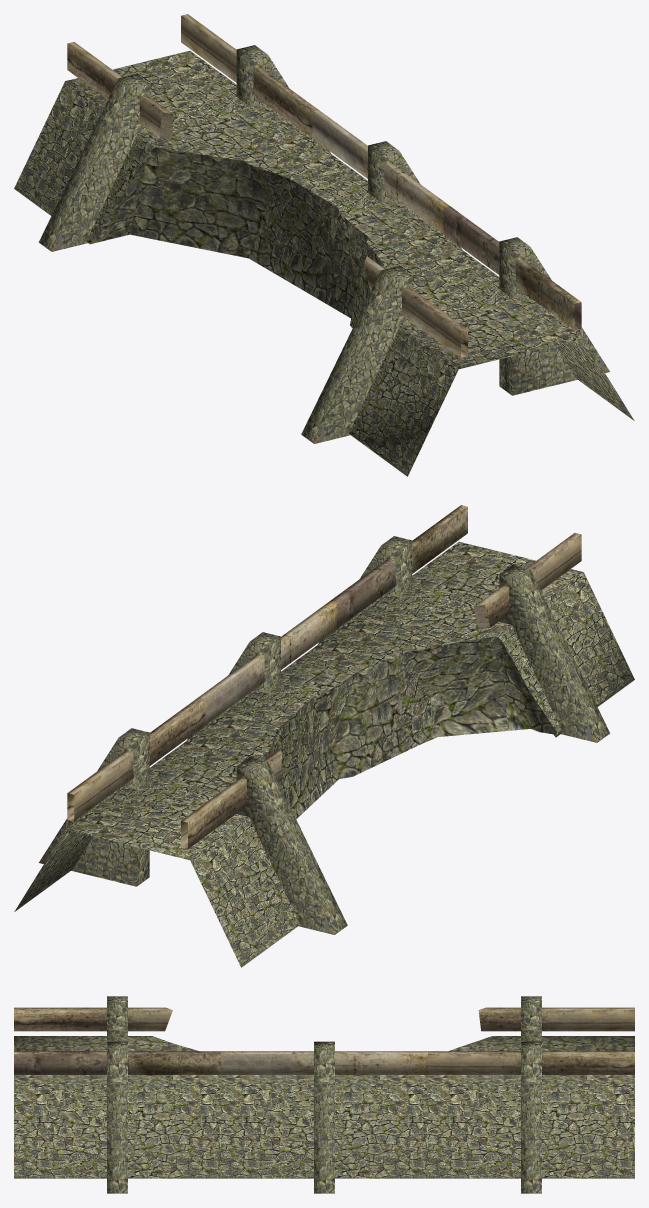
File: I-Tile_HalfBroken.fbx
3 views of the same model, one above another, from view 1: azimuth 30°, elevation 25°; view 2: azimuth 150°, elevation 25°; view 3: azimuth 270°, elevation 25° (orthographic). The views are drawn at different scales.
Visible parts, largest first — view 1: I-Tile Half Broken; view 2: I-Tile Half Broken; view 3: I-Tile Half Broken.
Boxes of the visible parts, <box> form: I-Tile Half Broken: <box>14,14,634,476</box>; I-Tile Half Broken: <box>14,505,634,967</box>; I-Tile Half Broken: <box>14,996,634,1193</box>.
Bounding box in the file's own units: 130 × 60.81 × 300.
